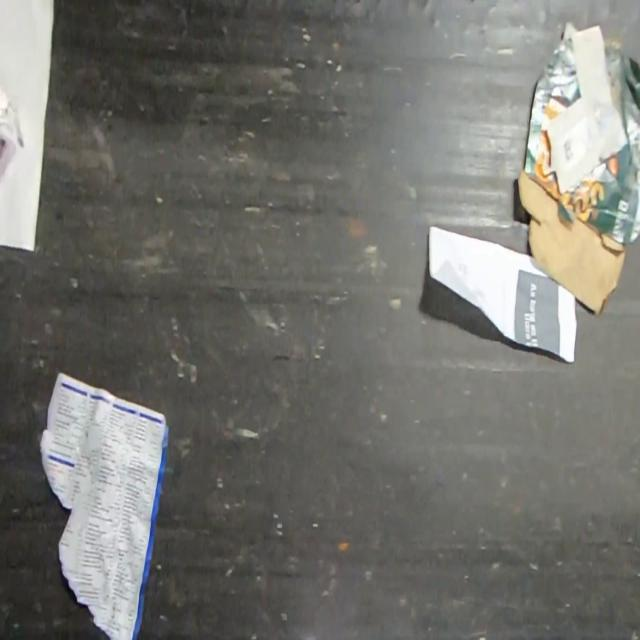cardboard: (516, 18, 640, 318)
